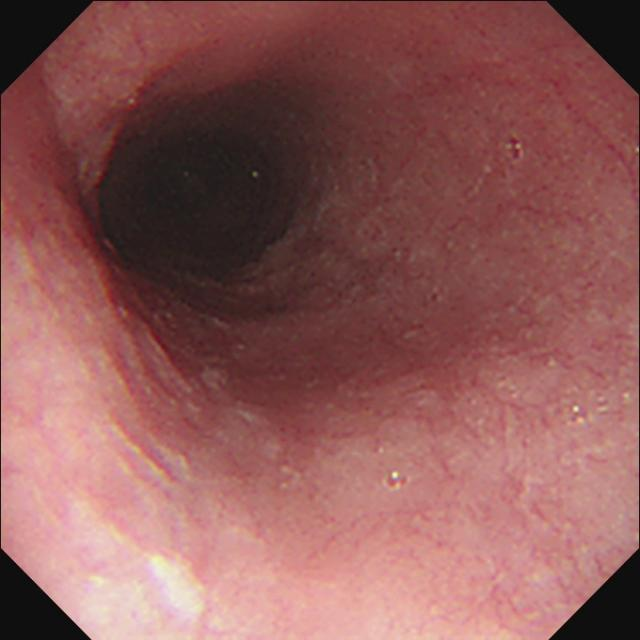E: (72, 89, 316, 301)
